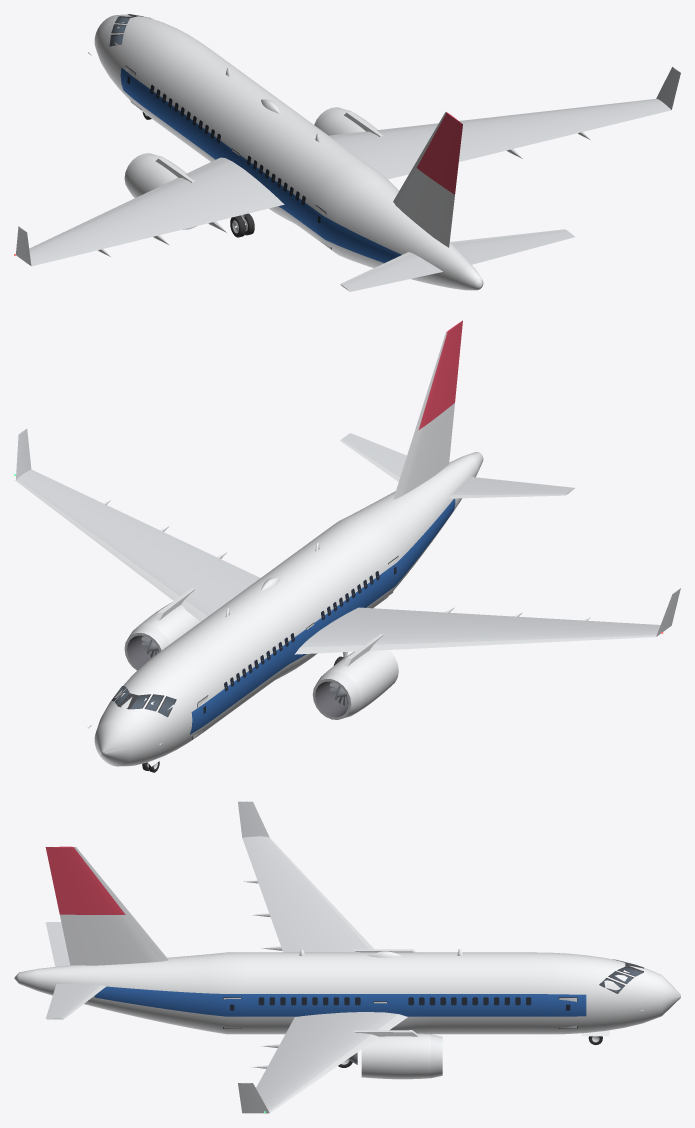
Rendered from airplane.glb.
3 views of the same model, one above another, from view 1: azimuth 30°, elevation 25°; view 2: azimuth 150°, elevation 25°; view 3: azimuth 270°, elevation 25° (orthographic). The views are drawn at different scales.
Parts seen in each view (by area): view 1: Fuselage, LeftWing, RightWing, VerticalTail, RightTail, LeftTail, LeftEngine, RightEngine, Windows, MainGear; view 2: Fuselage, RightWing, LeftWing, VerticalTail, LeftEngine, RightEngine, LeftTail, RightTail, Cockpit, Windows; view 3: Fuselage, LeftWing, VerticalTail, RightWing, RightEngine, RightTail, Windows, LeftTail, Cockpit.
Boxes of the visible parts, x1,y1,x2,y2 form: Fuselage: (94, 14, 483, 290); LeftWing: (14, 157, 284, 266); RightWing: (329, 67, 680, 179); VerticalTail: (393, 112, 462, 247); RightTail: (451, 229, 574, 264); LeftTail: (340, 252, 442, 291); LeftEngine: (124, 153, 196, 229); RightEngine: (314, 107, 383, 136); Windows: (150, 85, 305, 205); MainGear: (230, 213, 254, 237); Fuselage: (94, 452, 483, 766); RightWing: (14, 428, 260, 621); LeftWing: (294, 588, 680, 654); VerticalTail: (393, 320, 462, 499); LeftEngine: (312, 634, 398, 719); RightEngine: (124, 588, 200, 670); LeftTail: (449, 476, 574, 498); RightTail: (340, 433, 406, 481); Cockpit: (111, 686, 176, 717); Windows: (224, 571, 379, 691); Fuselage: (14, 952, 680, 1034); LeftWing: (238, 801, 373, 952); VerticalTail: (45, 846, 168, 965); RightWing: (238, 1012, 407, 1113); RightEngine: (348, 1030, 442, 1079); RightTail: (45, 984, 105, 1019); Windows: (258, 997, 531, 1005); LeftTail: (45, 922, 69, 966); Cockpit: (599, 959, 643, 993).
Bounding box in the file's own units: 33.76 × 10.95 × 33.76.
